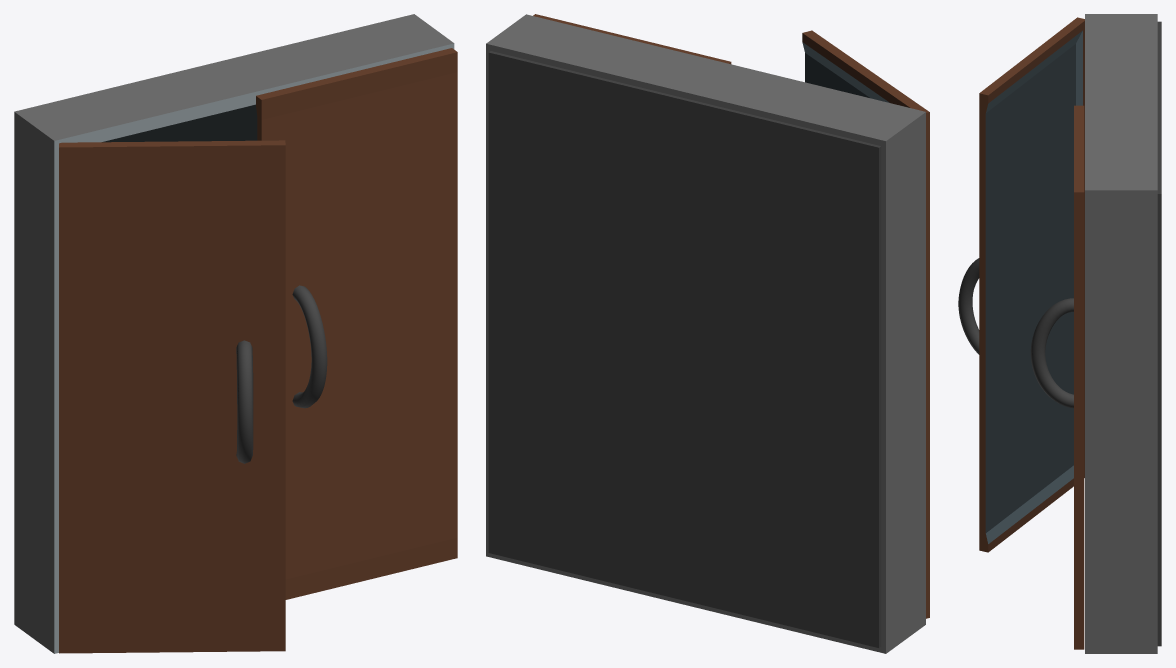
The model's file is Cigarette Case #3.fbx.
3 views of the same model, side by side, from view 1: azimuth 30°, elevation 25°; view 2: azimuth 150°, elevation 25°; view 3: azimuth 270°, elevation 25° (orthographic). The views are drawn at different scales.
Parts seen in each view (by area): view 1: Cigarette Case #3; view 2: Cigarette Case #3; view 3: Cigarette Case #3.
Part boxes in pixels (bbox=[...]): Cigarette Case #3: bbox=[14, 14, 457, 653]; Cigarette Case #3: bbox=[486, 14, 929, 653]; Cigarette Case #3: bbox=[958, 14, 1161, 653].
Size of the model in its own units: 91.42 by 112 by 44.46.
1 material, 1 textured.
